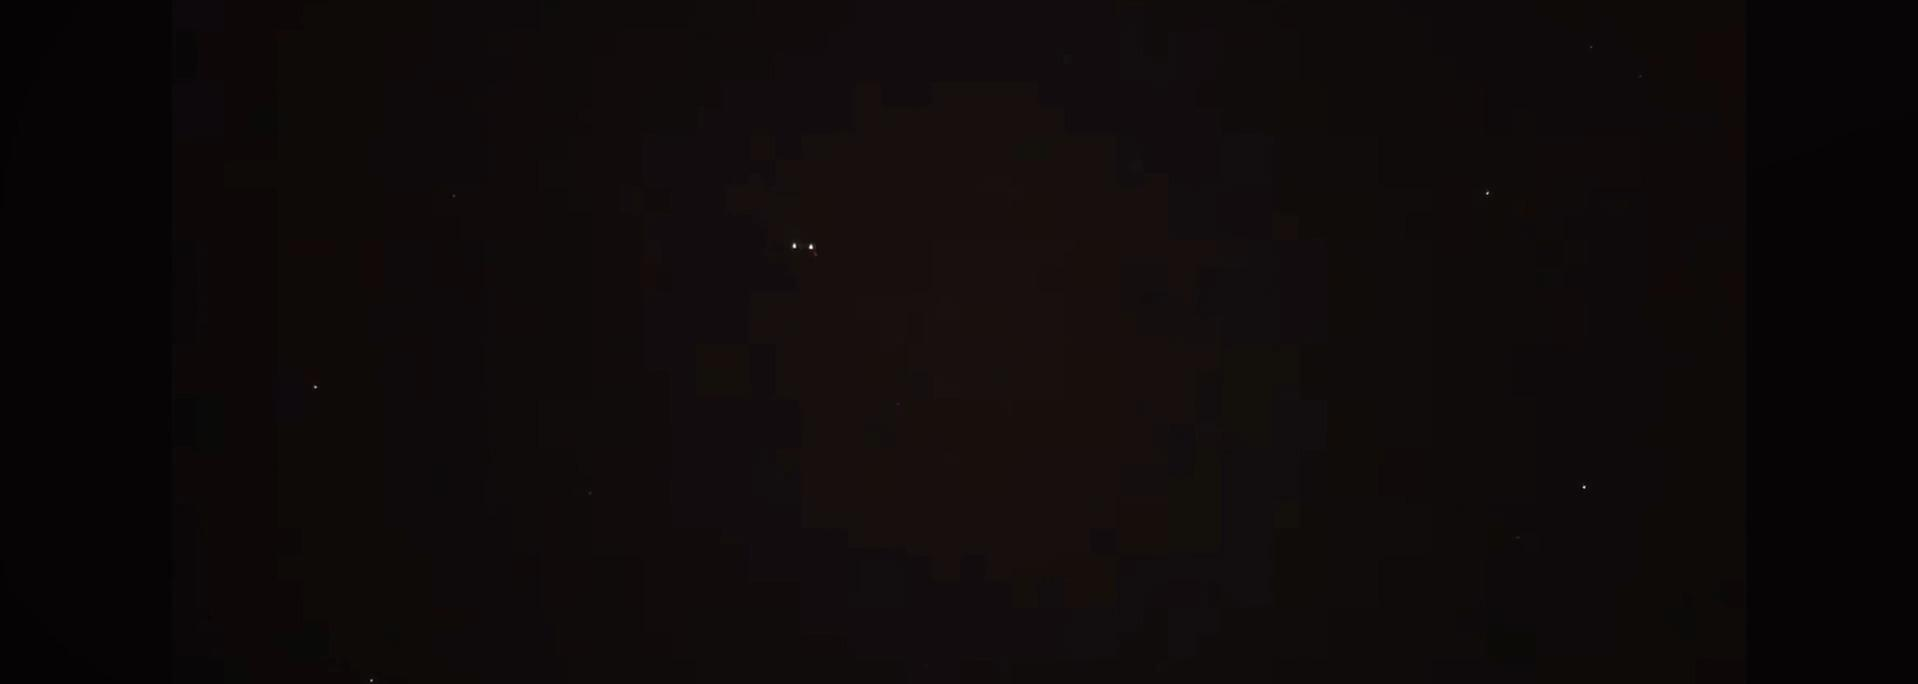Plane: (766, 230, 846, 266)
